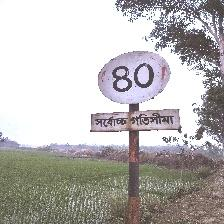Speed-limit: (92, 49, 180, 133)
